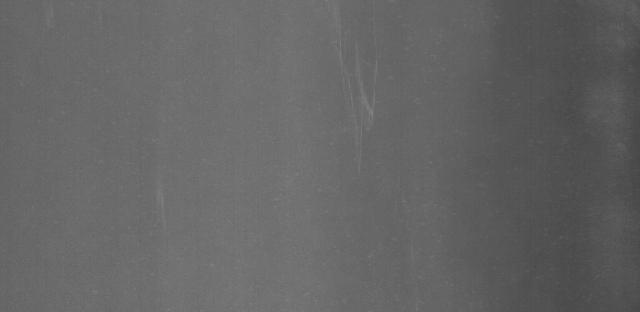silk_spot: (336, 38, 395, 152)
